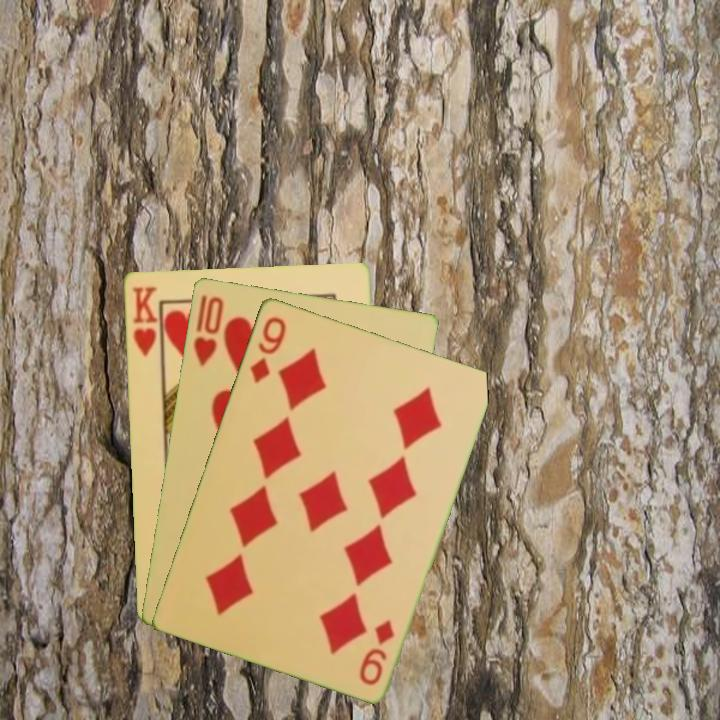10h: (190, 290, 226, 369)
9d: (245, 312, 289, 385), (355, 615, 397, 688)
Kh: (128, 282, 164, 364)
